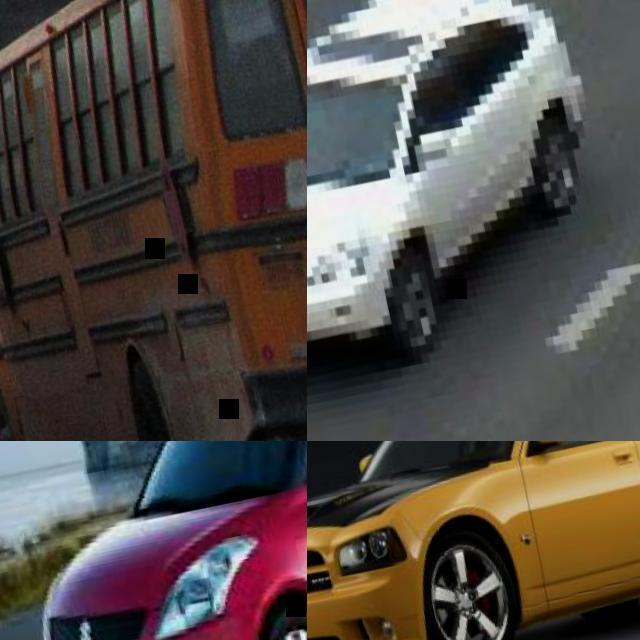car: (305, 0, 587, 354), (0, 440, 304, 639)
